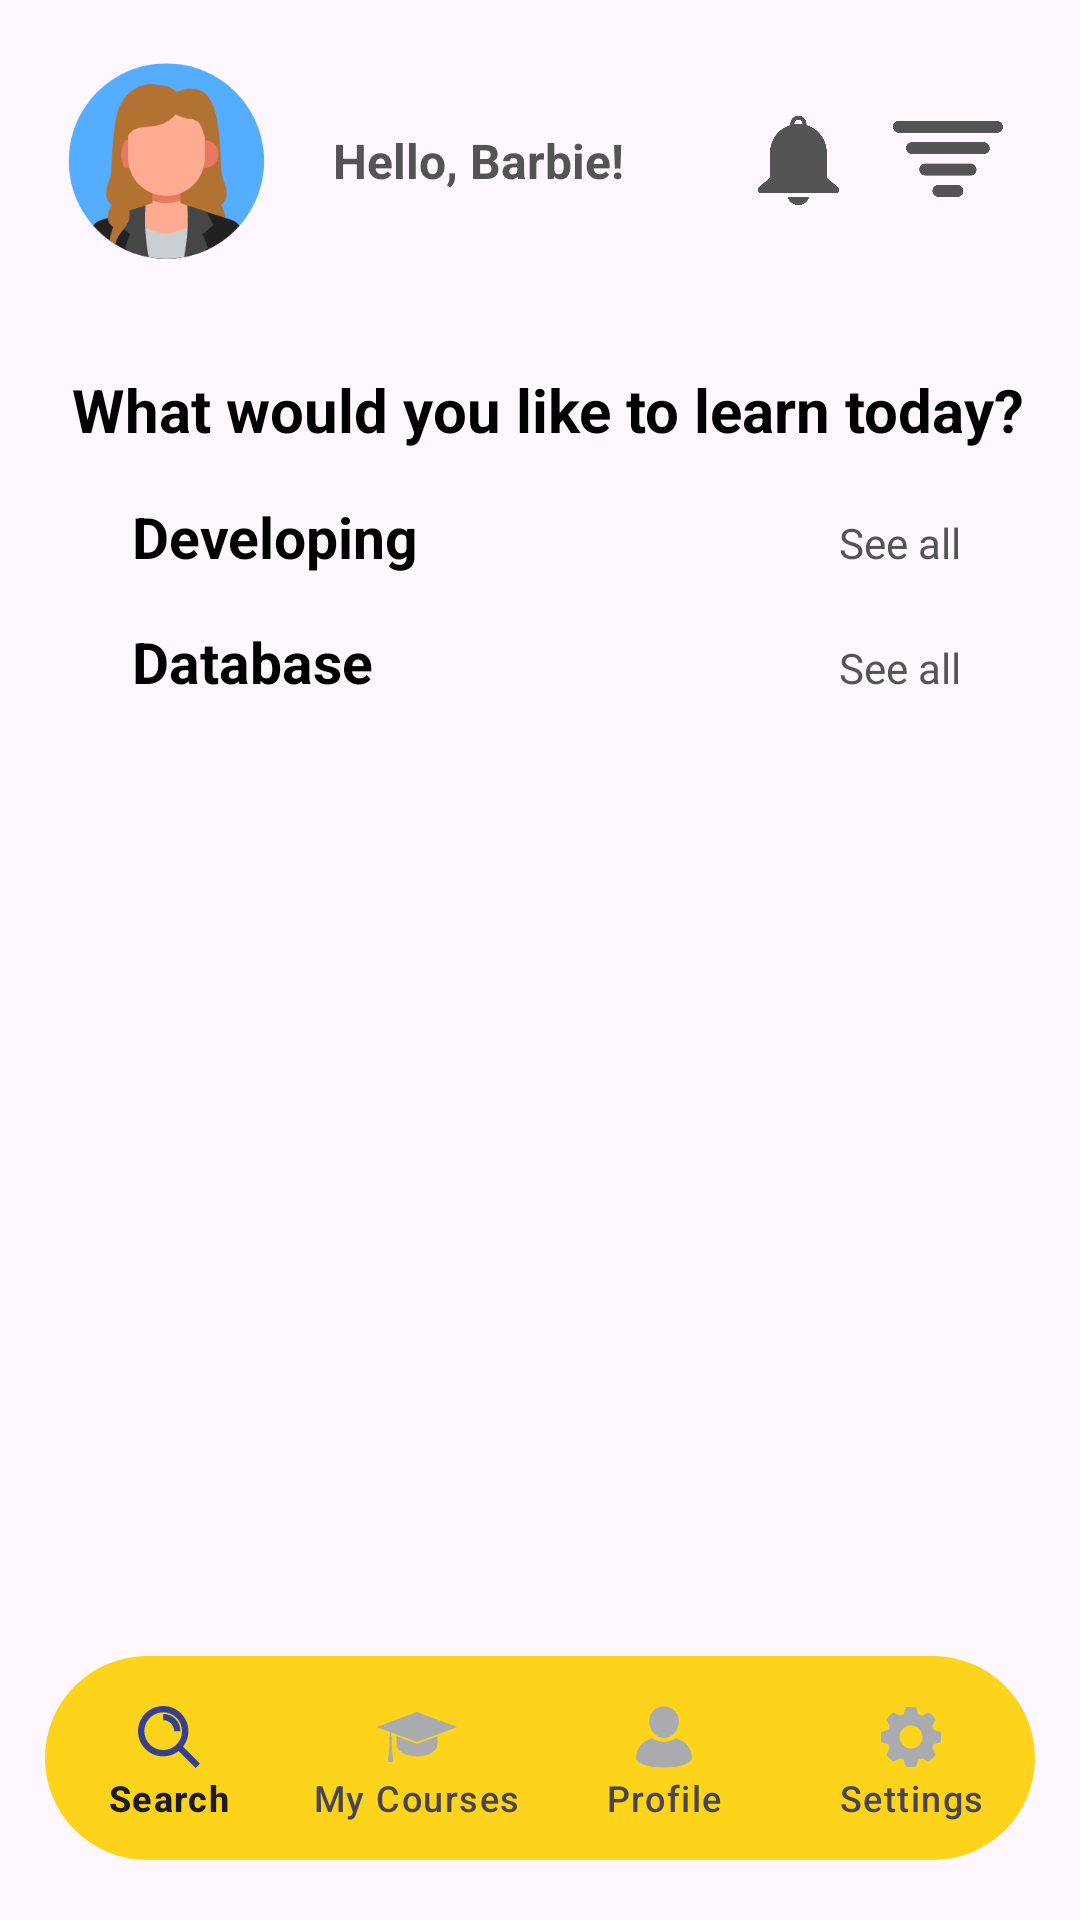

Where to tap for icons on this 1080px x 1920px app screen, as point (x, y):
filter: point (948, 159)
notif: point (798, 160)
